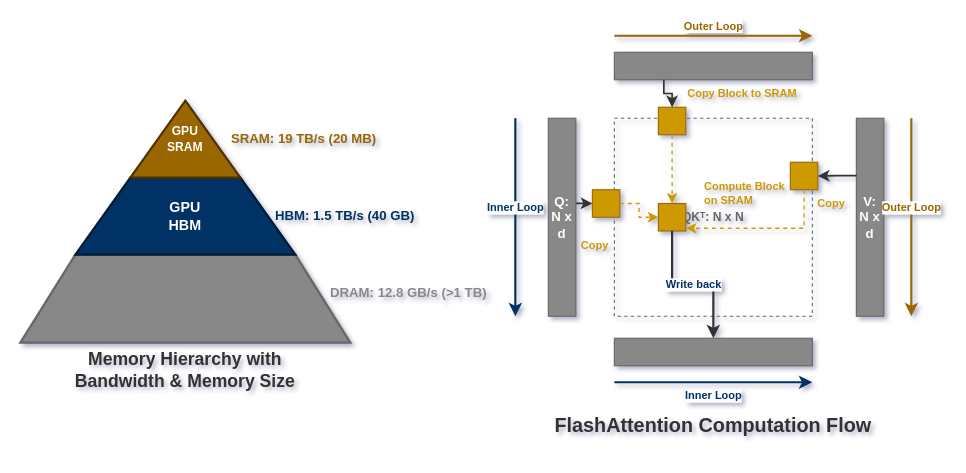
Some shapes in this 966 by 473 pixel diagram are drawn without their labels. Here are the shapes that lost their labels. From the top down, the centre of each, then its label:
At (712,65): "Kᵀ: d x N".
At (185,298): "Main Memory (CPU DRAM)".
At (712,351): "sm(QKᵀ)V: N x d".
